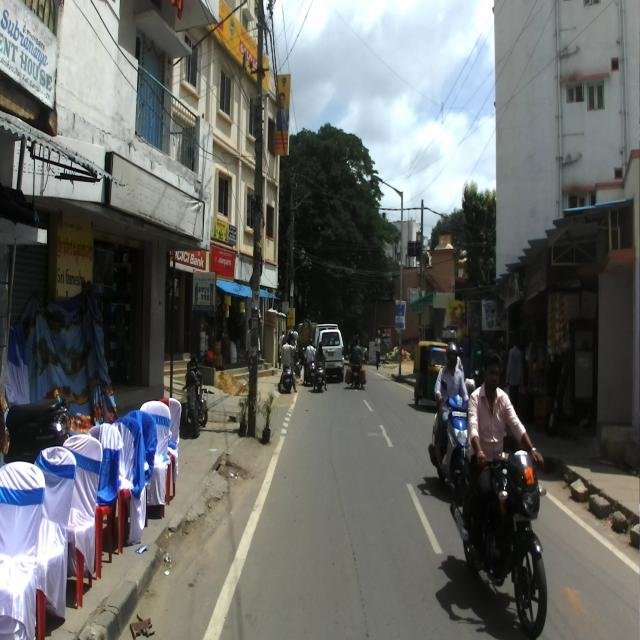motorcycle: (0, 395, 73, 465)
motorcycle_bajaj: (448, 446, 548, 638), (181, 352, 208, 437)
scooter: (428, 375, 470, 487)
